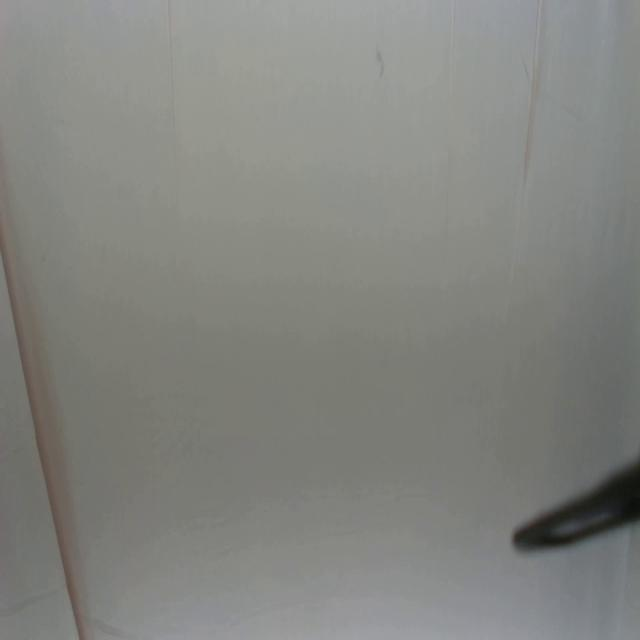crease: (0, 218, 86, 640), (502, 0, 544, 336), (164, 0, 178, 197)
